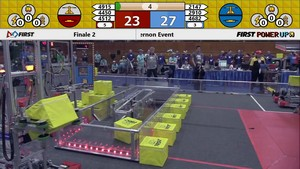cube: (21, 92, 80, 134), (133, 135, 172, 165), (113, 115, 143, 142), (163, 111, 184, 132), (169, 101, 189, 122), (91, 79, 114, 95)
